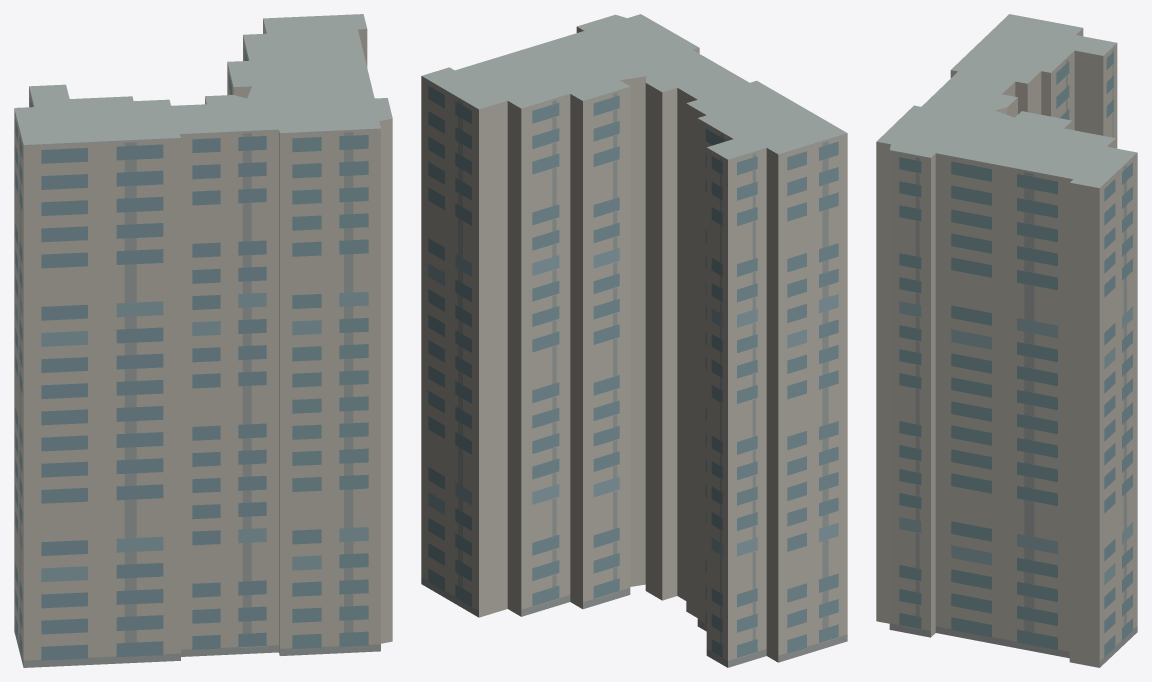
File: residential-fd361784-173f-4002-a3da-07226a053bf2.glb
3 views of the same model, side by side, from view 1: azimuth 30°, elevation 25°; view 2: azimuth 150°, elevation 25°; view 3: azimuth 270°, elevation 25° (orthographic). The views are drawn at different scales.
Parts seen in each view (by area): view 1: residential-fd361784-173f-4002-a3da-07226a053bf2.tmp; view 2: residential-fd361784-173f-4002-a3da-07226a053bf2.tmp; view 3: residential-fd361784-173f-4002-a3da-07226a053bf2.tmp.
Part boxes in pixels (x1,y1,x2,y2): residential-fd361784-173f-4002-a3da-07226a053bf2.tmp: (14, 14, 392, 667); residential-fd361784-173f-4002-a3da-07226a053bf2.tmp: (421, 14, 847, 667); residential-fd361784-173f-4002-a3da-07226a053bf2.tmp: (876, 14, 1137, 667).
Size of the model in its own units: 44.41 by 57 by 28.12.
